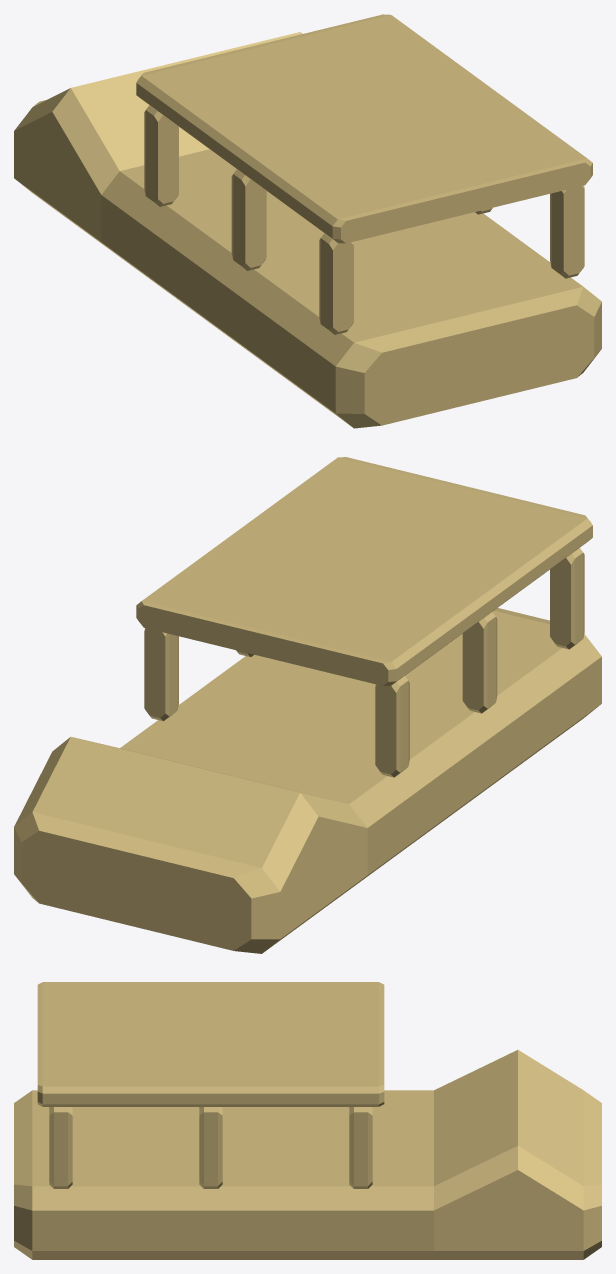
Rendered from tallow_transport_d.glb.
3 views of the same model, one above another, from view 1: azimuth 30°, elevation 25°; view 2: azimuth 150°, elevation 25°; view 3: azimuth 270°, elevation 25° (orthographic). The views are drawn at different scales.
Visible parts, largest first — view 1: tallow_transport_d; view 2: tallow_transport_d; view 3: tallow_transport_d.
Part boxes in pixels (x1,y1,x2,y2): tallow_transport_d: (14,14,601,428); tallow_transport_d: (14,457,601,953); tallow_transport_d: (14,982,601,1259).
Size of the model in its own units: 3.9 by 2.9 by 8.7.
